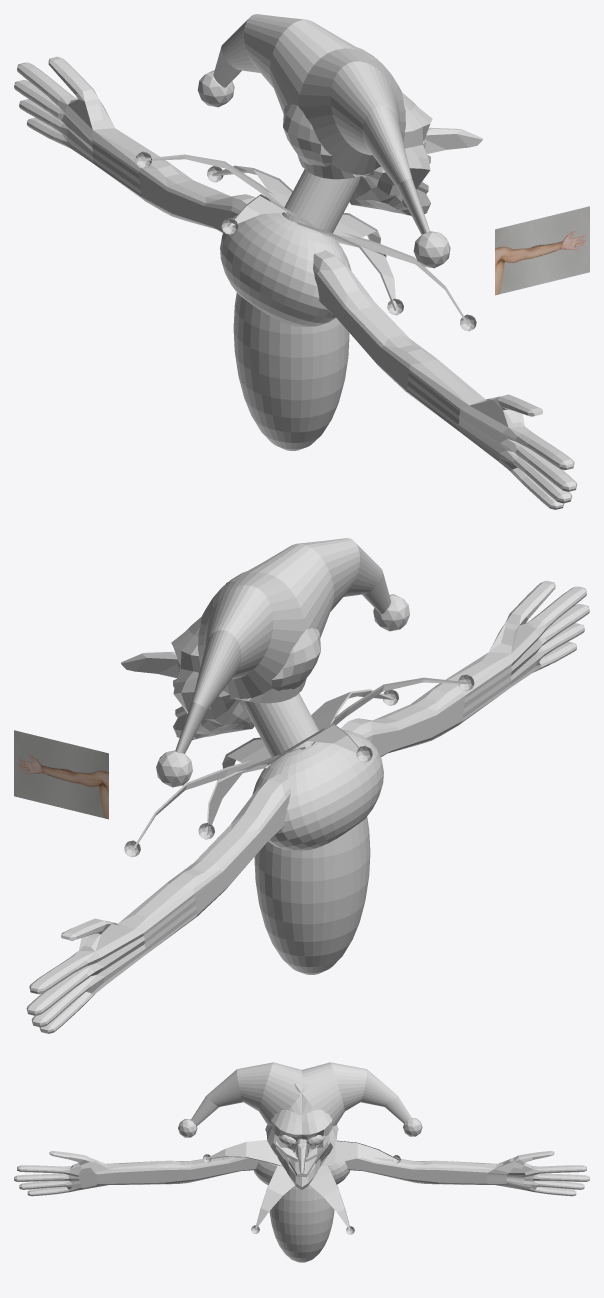
File: jester.glb
The picture shows the model from 3 angles, top to bottom: view 1: azimuth 30°, elevation 25°; view 2: azimuth 150°, elevation 25°; view 3: azimuth 270°, elevation 25°; orthographic projection. The views are drawn at different scales.
Parts seen in each view (by area): view 1: body, hat, armR, armL, head, arm.001, neck_trill; view 2: body, hat, armL, armR, head, arm.001, neck_trill; view 3: hat, armR, armL, body, neck_trill, head.
Boxes of the visible parts, bbox=[...] form: body: bbox=[220, 169, 360, 450]; hat: bbox=[197, 14, 450, 268]; armR: bbox=[313, 250, 577, 509]; armL: bbox=[14, 56, 255, 232]; head: bbox=[283, 92, 482, 216]; arm.001: bbox=[495, 206, 589, 295]; neck_trill: bbox=[135, 151, 476, 331]; body: bbox=[243, 693, 383, 974]; hat: bbox=[156, 538, 409, 787]; armL: bbox=[26, 774, 290, 1033]; armR: bbox=[340, 580, 589, 756]; head: bbox=[121, 616, 320, 740]; arm.001: bbox=[14, 730, 108, 819]; neck_trill: bbox=[124, 674, 474, 857]; hat: bbox=[178, 1062, 422, 1137]; armR: bbox=[14, 1151, 259, 1196]; armL: bbox=[345, 1151, 589, 1196]; body: bbox=[254, 1160, 349, 1262]; neck_trill: bbox=[203, 1124, 400, 1234]; head: bbox=[265, 1109, 338, 1189].
Size of the model in its own units: 6.54 by 6.03 by 15.2.
1 material, 1 textured.
